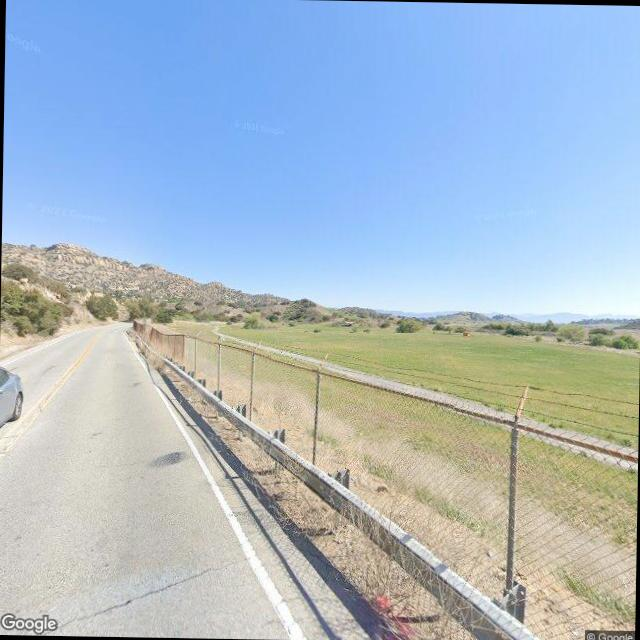crack: (23, 545, 261, 638)
